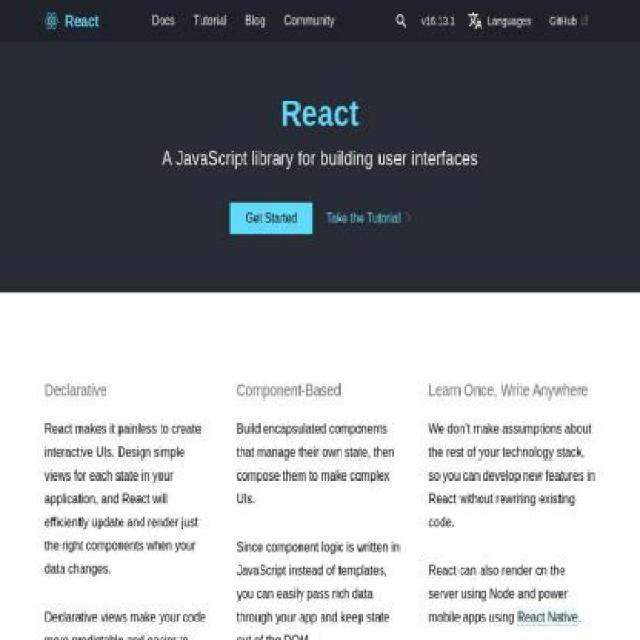button: (45, 0, 137, 42), (230, 202, 313, 235), (460, 7, 538, 36), (326, 211, 411, 226), (543, 10, 595, 32), (517, 609, 578, 626), (416, 10, 462, 32)
field: (393, 10, 407, 32)
